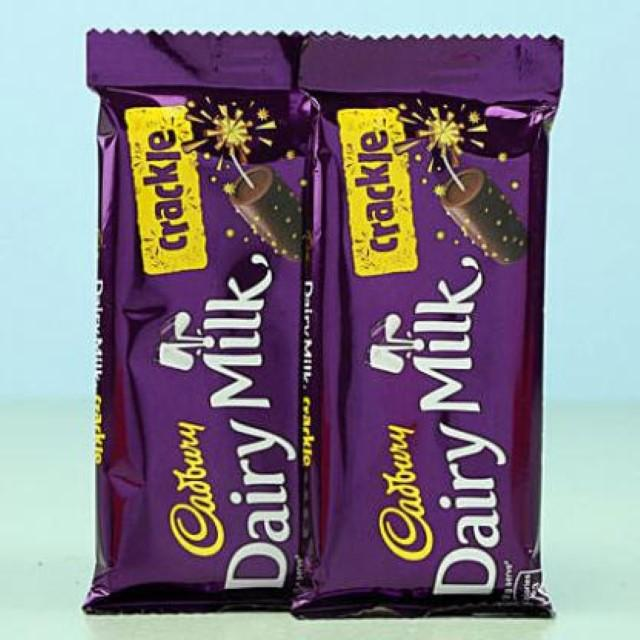cadbury_chocolate: (328, 43, 557, 615), (97, 49, 308, 604)
